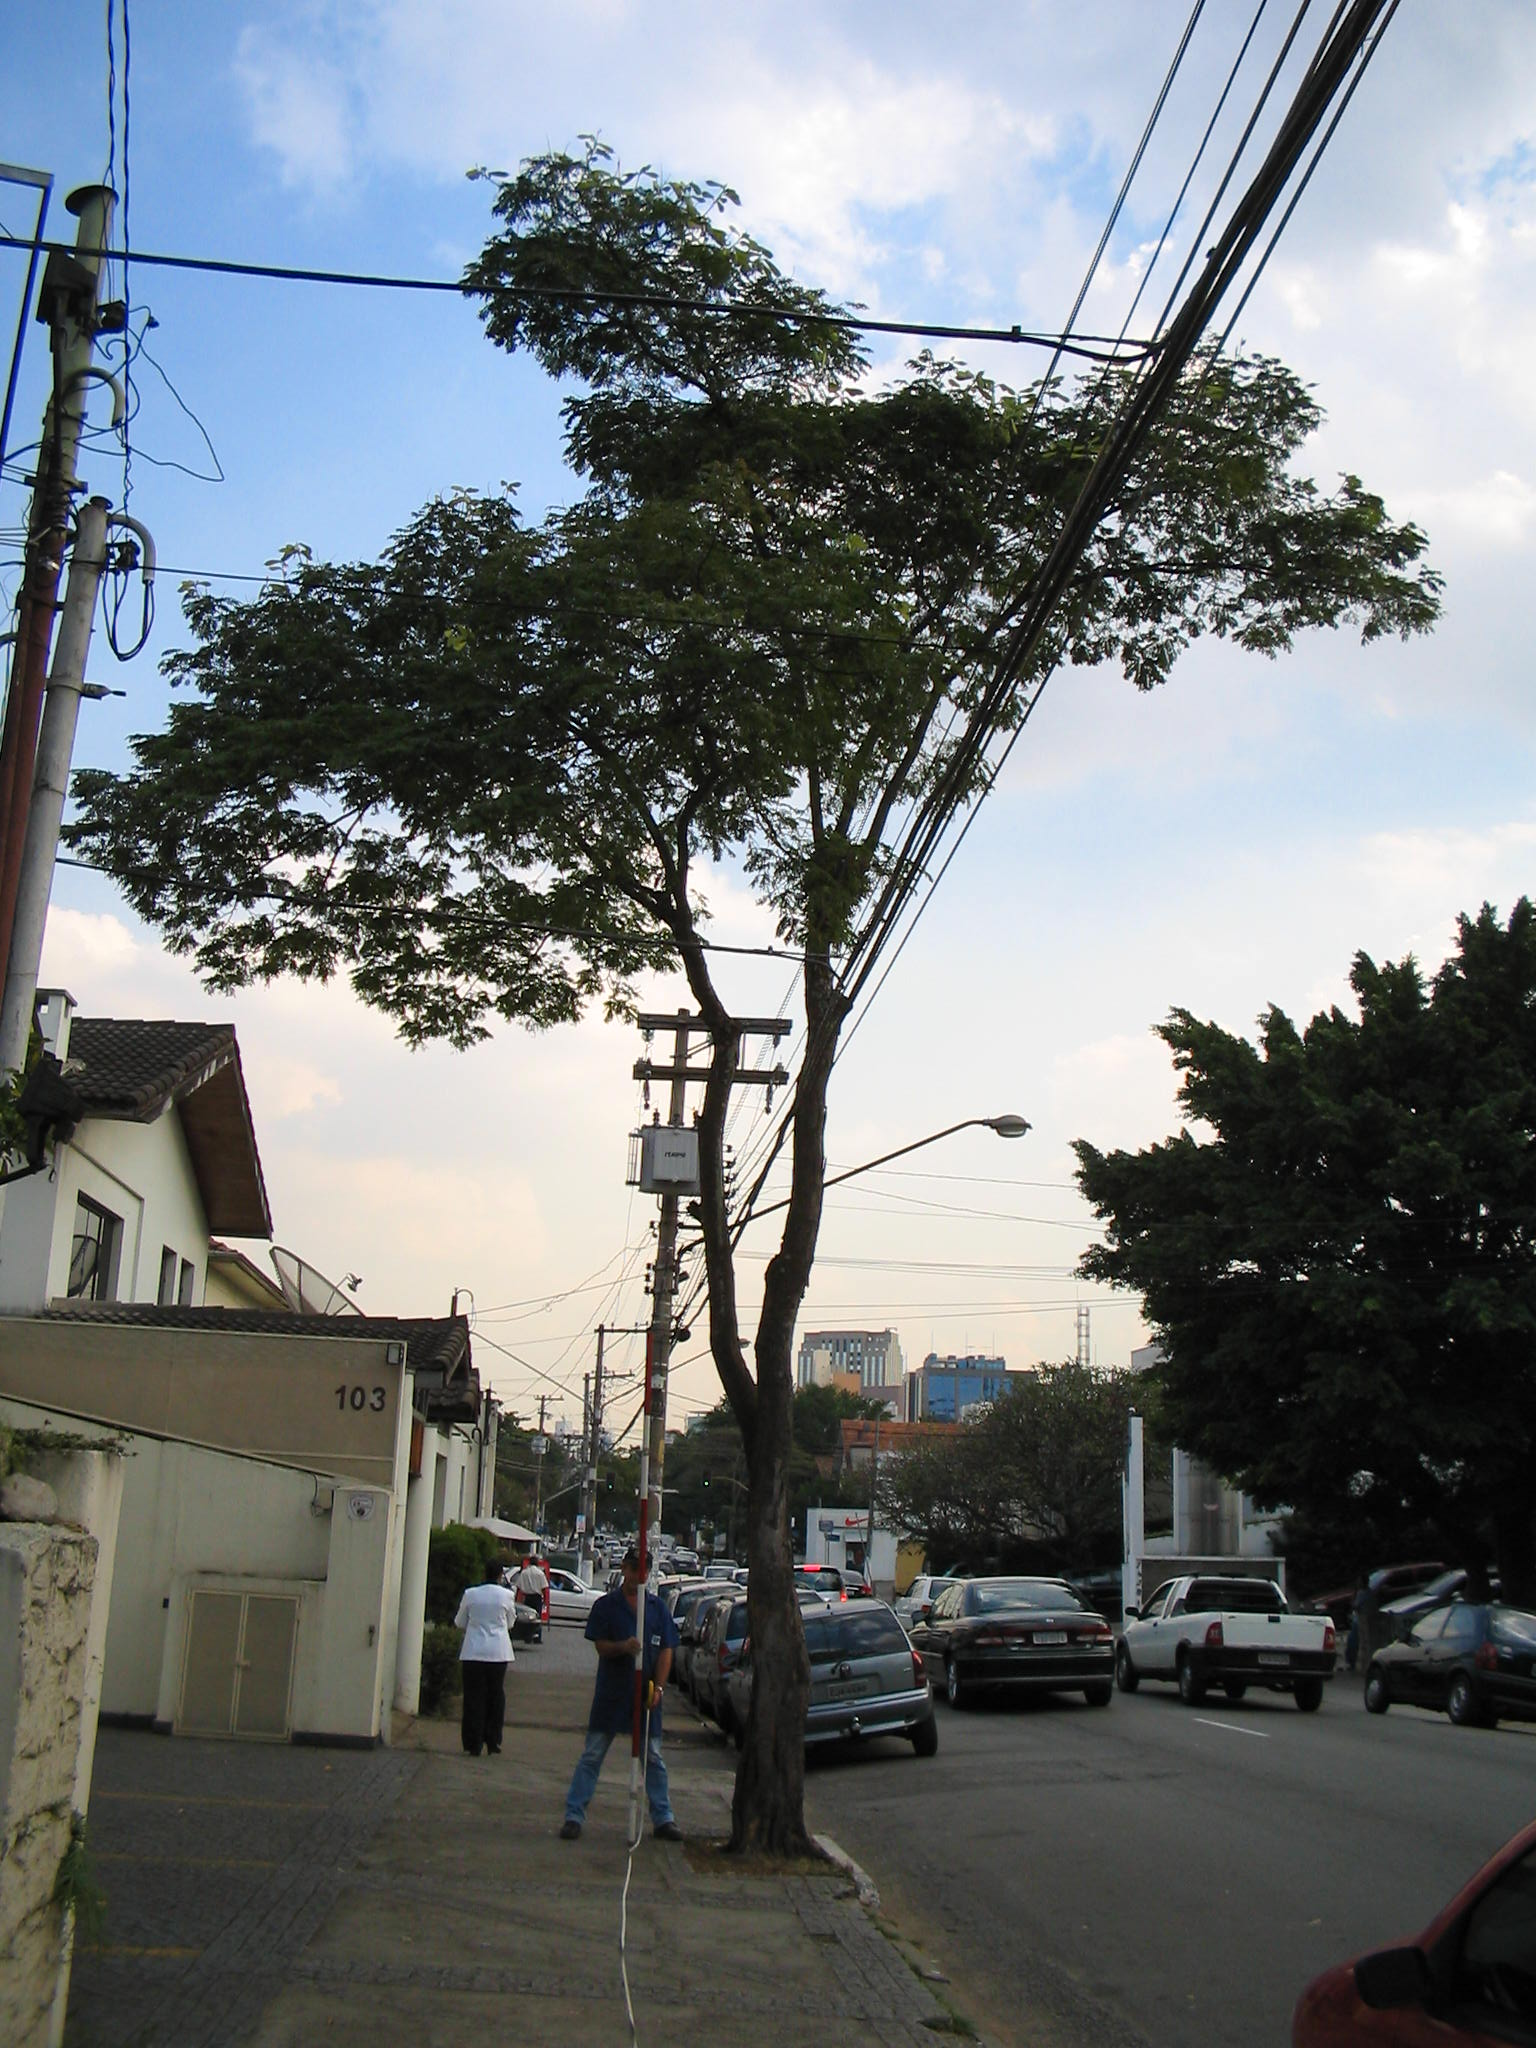crown: (69, 147, 1454, 1077)
stem: (712, 1438, 841, 1854)
stick: (620, 1330, 670, 1853)
tree: (63, 140, 1455, 1854)
